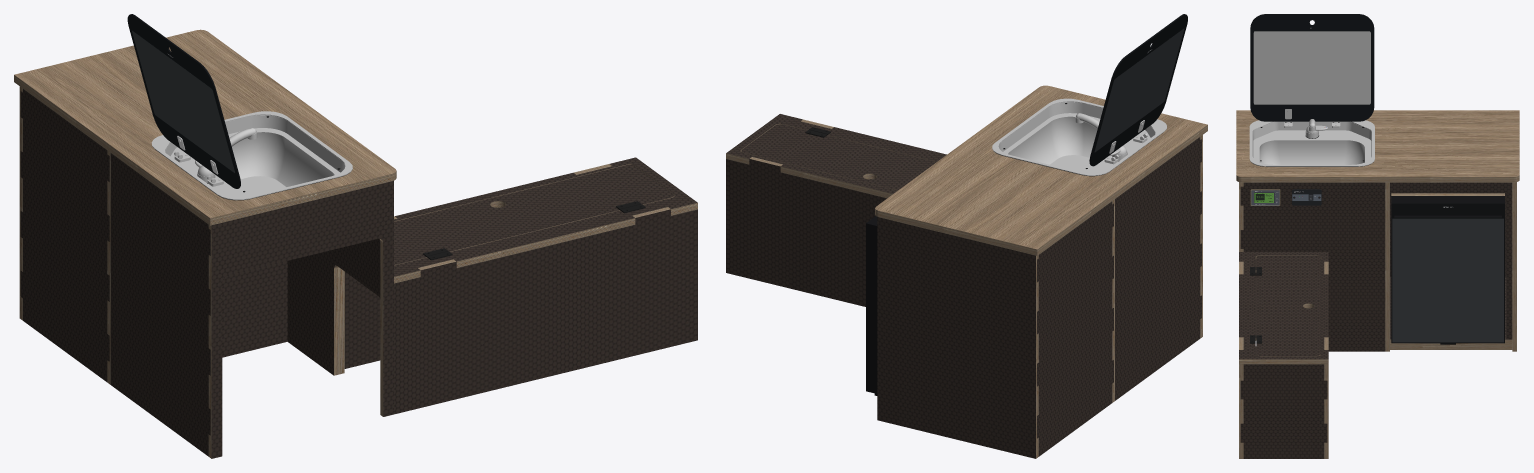
Rendered from front-module-rear-20-hexa.glb.
3 views of the same model, side by side, from view 1: azimuth 30°, elevation 25°; view 2: azimuth 150°, elevation 25°; view 3: azimuth 270°, elevation 25° (orthographic). The views are drawn at different scales.
Parts seen in each view (by area): view 1: Forward end panel -15mm with top tenons_1, Back panel - 15mm with tenons_0.001, ボディ61_0, Back panel - 15mm with tenons_0.002, Forward end panel -15mm with top tenons_1.001, ボディ56_1, Stainless basin with rear faucet ledge_0, Front panel - 15mm with tenons_1.001, Gray ceramic printed field approximation_0, Forward end panel -15mm with top tenons_1.002, ボディ57_1, Black safety glass_0 (+5 smaller); view 2: Rearward end panel -15mm with top tenons_1.001, ボディ61_0, Back panel - 15mm with tenons_0.001, Rearward end panel -15mm with top tenons_1, Back panel - 15mm with tenons_0.002, Stainless basin with rear faucet ledge_0, ボディ56_1, Gray ceramic printed field approximation_0, ボディ57_1, Black safety glass_0, Door black surround with full-width recessed handle_0, ボディ57_0; view 3: Front panel - 15mm with tenons_1.001, Dark gray frameless face_0, ボディ61_0, ボディ15 (1)_0, Front panel - 15mm with tenons_0, ボディ56_1, Stainless basin with rear faucet ledge_0, Black safety glass_0, ボディ57_1, Door black surround with full-width recessed handle_0, ボディ53_1, Rear extension removable infill - 20x540x15mm_1 (+10 smaller).
Boxes of the visible parts, box(x1,y1,x2,y2) form: Forward end panel -15mm with top tenons_1: box(394, 209, 697, 414); Back panel - 15mm with tenons_0.001: box(110, 153, 210, 456); ボディ61_0: box(14, 29, 396, 225); Back panel - 15mm with tenons_0.002: box(20, 89, 109, 381); Forward end panel -15mm with top tenons_1.001: box(211, 180, 393, 458); ボディ56_1: box(394, 164, 673, 264); Stainless basin with rear faucet ledge_0: box(151, 111, 352, 200); Front panel - 15mm with tenons_1.001: box(287, 239, 380, 375); Gray ceramic printed field approximation_0: box(132, 30, 234, 172); Forward end panel -15mm with top tenons_1.002: box(222, 261, 287, 357); ボディ57_1: box(394, 157, 697, 276); Black safety glass_0: box(127, 14, 240, 188); Rearward end panel -15mm with top tenons_1.001: box(877, 217, 1035, 458); ボディ61_0: box(875, 85, 1207, 255); Back panel - 15mm with tenons_0.001: box(1115, 137, 1201, 400); Rearward end panel -15mm with top tenons_1: box(726, 159, 886, 306); Back panel - 15mm with tenons_0.002: box(1037, 201, 1113, 456); Stainless basin with rear faucet ledge_0: box(992, 98, 1166, 175); ボディ56_1: box(741, 124, 936, 190); Gray ceramic printed field approximation_0: box(1094, 28, 1184, 152); ボディ57_1: box(726, 114, 946, 193); Black safety glass_0: box(1089, 14, 1187, 166); Door black surround with full-width recessed handle_0: box(866, 216, 877, 393); ボディ57_0: box(726, 123, 936, 198); Front panel - 15mm with tenons_1.001: box(1240, 182, 1385, 351); Dark gray frameless face_0: box(1392, 218, 1503, 342); ボディ61_0: box(1236, 110, 1519, 182); ボディ15 (1)_0: box(1253, 31, 1370, 104); Front panel - 15mm with tenons_0: box(1240, 364, 1327, 458); ボディ56_1: box(1256, 255, 1320, 355); Stainless basin with rear faucet ledge_0: box(1249, 120, 1374, 166); Black safety glass_0: box(1250, 14, 1374, 121); ボディ57_1: box(1239, 252, 1328, 359); Door black surround with full-width recessed handle_0: box(1391, 196, 1504, 343); ボディ53_1: box(1390, 182, 1512, 193); Rear extension removable infill - 20x540x15mm_1: box(1506, 193, 1512, 339).
Bounding box in the file's own units: 1.37 × 1.02 × 0.95.
30 materials, 4 textured.
